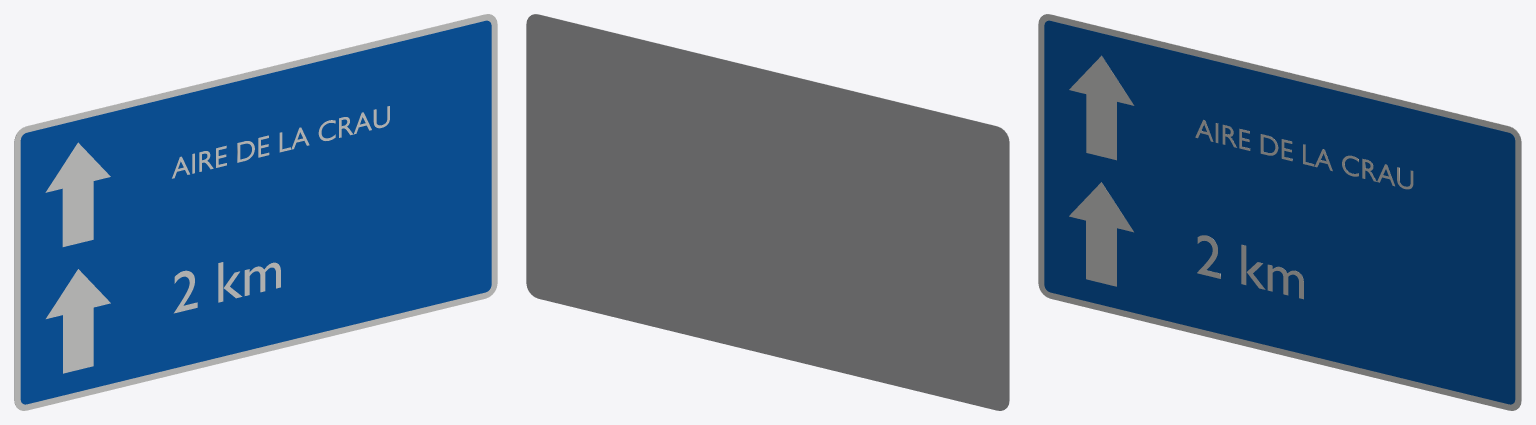
The picture shows the model from 3 angles, left to right: view 1: azimuth 30°, elevation 25°; view 2: azimuth 150°, elevation 25°; view 3: azimuth 330°, elevation 25°; orthographic projection.
Parts seen in each view (by area): view 1: D48b_fond01, D48b_cadre00, D48b_fl02, D48b_fl04, D48b_txt03, D48b_txt05, D48b_dos; view 2: D48b_dos; view 3: D48b_fond01, D48b_cadre00, D48b_fl04, D48b_fl02, D48b_txt03, D48b_txt05, D48b_dos.
Boxes of the visible parts, box(x1,y1,x2,y2) form: D48b_fond01: box(20, 20, 491, 404); D48b_cadre00: box(14, 14, 497, 410); D48b_fl02: box(45, 142, 110, 246); D48b_fl04: box(46, 269, 110, 373); D48b_txt03: box(172, 106, 389, 178); D48b_txt05: box(173, 262, 280, 313); D48b_dos: box(14, 14, 491, 404); D48b_dos: box(526, 14, 1009, 410); D48b_fond01: box(1044, 20, 1515, 404); D48b_cadre00: box(1038, 14, 1521, 410); D48b_fl04: box(1069, 182, 1133, 286); D48b_fl02: box(1069, 55, 1134, 160); D48b_txt03: box(1195, 120, 1413, 189); D48b_txt05: box(1197, 235, 1303, 299); D48b_dos: box(1044, 14, 1521, 404).
Size of the model in its own units: 1.6 by 0.9 by 0.0037.
